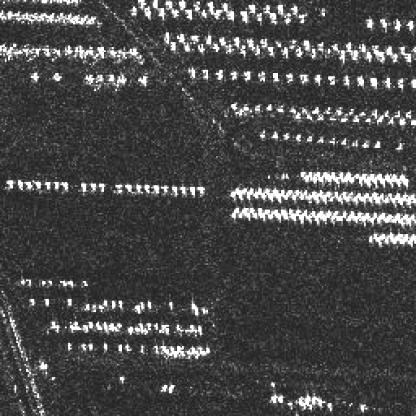airplane: (239, 42, 249, 56), (203, 31, 215, 42), (392, 18, 402, 31), (395, 76, 403, 90), (59, 278, 73, 286), (281, 44, 291, 55), (184, 41, 194, 52), (41, 276, 52, 286), (162, 30, 171, 42), (270, 70, 280, 80), (401, 52, 411, 62), (196, 42, 206, 52), (176, 32, 186, 42), (404, 20, 414, 30), (262, 3, 272, 13), (143, 6, 153, 16), (257, 68, 265, 80), (242, 68, 250, 80), (310, 45, 318, 57), (302, 37, 310, 49), (29, 72, 41, 80), (20, 276, 32, 284), (247, 3, 257, 12), (382, 75, 390, 86), (214, 67, 222, 78), (200, 67, 208, 78), (187, 65, 195, 76), (247, 36, 255, 47), (169, 39, 177, 50), (366, 18, 374, 29), (206, 0, 214, 11), (255, 42, 262, 54), (233, 34, 240, 46), (167, 384, 176, 393), (32, 180, 42, 188), (44, 178, 52, 188), (52, 178, 60, 188), (80, 180, 88, 190), (143, 182, 151, 192), (161, 184, 171, 192), (229, 102, 239, 110), (368, 74, 376, 84), (356, 73, 364, 83), (343, 73, 351, 83), (326, 73, 334, 83), (297, 72, 307, 80), (229, 68, 237, 78), (370, 44, 378, 54), (296, 46, 304, 56), (290, 37, 298, 47), (266, 44, 274, 54), (224, 42, 232, 52), (218, 34, 226, 44), (239, 10, 247, 20), (226, 10, 236, 18), (211, 10, 221, 18), (184, 8, 192, 18), (156, 8, 166, 16), (52, 72, 60, 82), (115, 73, 125, 81), (136, 73, 146, 81), (68, 320, 78, 328), (80, 324, 90, 332), (198, 306, 208, 314), (188, 186, 197, 194), (276, 3, 284, 12), (24, 180, 31, 190), (89, 180, 96, 190), (172, 184, 179, 194), (372, 141, 382, 148), (385, 46, 392, 56), (297, 13, 304, 23), (169, 8, 179, 15), (94, 320, 101, 330), (167, 299, 174, 309), (5, 179, 13, 187), (96, 182, 104, 190), (125, 182, 133, 190), (196, 184, 204, 192), (258, 130, 266, 138), (270, 130, 278, 138), (281, 132, 289, 140), (351, 138, 359, 146), (276, 104, 284, 112), (314, 72, 322, 80), (284, 72, 292, 80), (358, 44, 366, 52), (274, 39, 282, 47), (260, 38, 268, 46), (268, 12, 276, 20), (255, 12, 263, 20), (177, 0, 185, 8), (164, 0, 172, 8), (84, 73, 92, 81), (94, 75, 102, 83), (106, 73, 114, 81), (82, 278, 90, 286), (134, 304, 142, 312), (160, 384, 168, 392), (268, 395, 276, 403), (212, 42, 219, 51), (62, 178, 68, 188), (405, 109, 411, 119), (240, 106, 250, 112), (390, 52, 396, 62), (377, 50, 383, 60), (364, 50, 370, 60), (345, 42, 351, 52), (379, 18, 385, 28), (130, 5, 136, 15), (101, 320, 107, 330), (297, 213, 304, 221), (388, 216, 396, 223), (398, 237, 406, 244), (354, 190, 361, 198), (302, 174, 309, 182), (16, 179, 23, 187), (115, 182, 122, 190), (180, 184, 187, 192), (294, 134, 301, 142), (340, 138, 348, 145), (387, 115, 395, 122), (333, 107, 341, 114), (292, 112, 300, 119), (396, 46, 404, 53), (190, 34, 198, 41), (290, 3, 298, 10), (193, 0, 200, 8), (151, 0, 158, 8), (146, 300, 153, 308), (115, 320, 122, 328), (358, 193, 364, 202), (221, 1, 227, 10), (109, 322, 114, 332), (276, 393, 281, 403), (294, 206, 301, 213), (385, 211, 392, 218), (393, 211, 400, 218), (320, 193, 327, 200), (401, 193, 408, 200), (346, 107, 353, 114), (234, 205, 240, 213), (240, 205, 246, 213), (326, 210, 332, 218), (378, 232, 386, 238), (236, 190, 242, 198), (300, 187, 306, 195), (135, 182, 143, 188), (153, 184, 159, 192), (306, 135, 314, 141), (317, 137, 325, 143), (328, 137, 336, 143), (396, 117, 404, 123), (394, 109, 402, 115), (382, 109, 388, 117), (317, 114, 325, 120), (312, 106, 320, 112), (304, 114, 312, 120), (301, 106, 307, 114), (265, 104, 271, 112), (254, 106, 262, 112), (351, 49, 357, 57), (338, 52, 344, 60), (330, 44, 338, 50), (283, 15, 291, 21), (50, 318, 56, 326), (39, 361, 47, 367), (109, 298, 115, 306), (127, 325, 133, 333), (88, 320, 94, 328), (192, 306, 198, 314), (333, 188, 338, 197), (367, 193, 372, 202), (377, 115, 382, 124), (231, 212, 237, 219), (267, 211, 273, 218), (281, 213, 288, 219), (359, 214, 366, 220), (370, 212, 376, 219), (379, 211, 385, 218), (382, 216, 388, 223), (397, 216, 403, 223), (400, 211, 406, 218), (408, 211, 414, 218), (388, 232, 394, 239), (392, 237, 398, 244), (229, 189, 236, 195), (242, 192, 249, 198), (248, 185, 254, 192), (312, 193, 318, 200), (336, 193, 342, 200), (340, 190, 346, 197), (351, 193, 357, 200), (362, 190, 368, 197), (377, 190, 383, 197), (341, 176, 348, 182), (360, 172, 366, 179), (371, 177, 377, 184), (379, 177, 385, 184), (361, 141, 367, 148), (395, 141, 401, 148), (325, 107, 331, 114), (28, 297, 34, 304), (83, 302, 89, 309), (250, 210, 255, 218), (307, 170, 312, 178), (330, 170, 335, 178), (338, 169, 343, 177), (403, 177, 408, 185), (358, 110, 366, 115), (340, 116, 350, 120), (288, 107, 296, 112), (65, 342, 70, 350), (91, 302, 96, 310), (117, 298, 122, 306), (138, 300, 143, 308), (117, 343, 122, 351), (125, 343, 130, 351), (258, 210, 264, 216), (275, 213, 281, 219), (309, 210, 315, 216), (317, 210, 323, 216), (336, 213, 342, 219), (340, 210, 346, 216), (344, 213, 350, 219), (397, 232, 403, 238), (252, 192, 258, 198), (273, 192, 279, 198), (278, 189, 284, 195), (282, 192, 288, 198), (293, 187, 299, 193), (317, 189, 323, 195), (343, 195, 349, 201), (397, 197, 403, 203), (404, 197, 410, 203), (310, 176, 316, 182), (322, 171, 328, 177), (326, 176, 332, 182), (345, 171, 351, 177), (371, 111, 377, 117), (236, 109, 242, 115), (138, 0, 144, 6), (80, 343, 86, 349), (189, 301, 195, 307), (271, 208, 278, 213), (291, 212, 296, 219), (406, 218, 413, 223), (403, 233, 408, 240), (232, 185, 239, 190), (255, 185, 260, 192), (263, 185, 268, 192), (354, 172, 359, 179), (369, 172, 374, 179), (398, 174, 405, 179), (44, 297, 49, 304), (65, 297, 70, 304), (102, 297, 107, 304), (306, 213, 310, 221), (322, 214, 326, 222), (358, 176, 362, 184), (328, 116, 336, 120), (202, 8, 206, 16), (244, 210, 249, 216), (302, 208, 307, 214), (312, 215, 317, 221), (333, 210, 338, 216), (330, 215, 335, 221), (362, 211, 368, 216), (374, 216, 380, 221), (367, 236, 372, 242), (372, 232, 377, 238), (286, 188, 292, 193), (310, 188, 316, 193), (374, 195, 380, 200), (315, 171, 320, 177), (388, 177, 394, 182), (364, 117, 370, 122), (353, 117, 359, 122), (102, 343, 107, 349), (288, 206, 292, 213), (372, 190, 376, 197), (265, 208, 270, 213), (356, 211, 361, 216), (367, 216, 372, 221), (385, 235, 390, 240), (325, 190, 330, 195), (328, 195, 333, 200), (390, 197, 395, 202), (299, 171, 304, 176), (377, 172, 382, 177), (385, 172, 390, 177), (395, 177, 400, 182), (248, 205, 252, 211), (348, 210, 352, 216), (352, 215, 356, 221), (376, 236, 380, 242), (266, 192, 272, 196), (272, 187, 276, 193), (304, 194, 310, 198), (384, 195, 388, 201), (386, 192, 392, 196), (318, 176, 324, 180), (350, 176, 354, 182), (410, 119, 414, 125), (98, 304, 102, 310), (88, 343, 92, 349), (257, 206, 260, 213), (291, 193, 294, 200), (280, 208, 284, 213), (240, 187, 244, 192), (348, 190, 352, 195), (395, 192, 400, 196), (392, 174, 396, 179), (237, 210, 240, 216), (260, 192, 263, 198), (335, 176, 338, 182), (298, 194, 302, 198), (366, 177, 368, 184)
